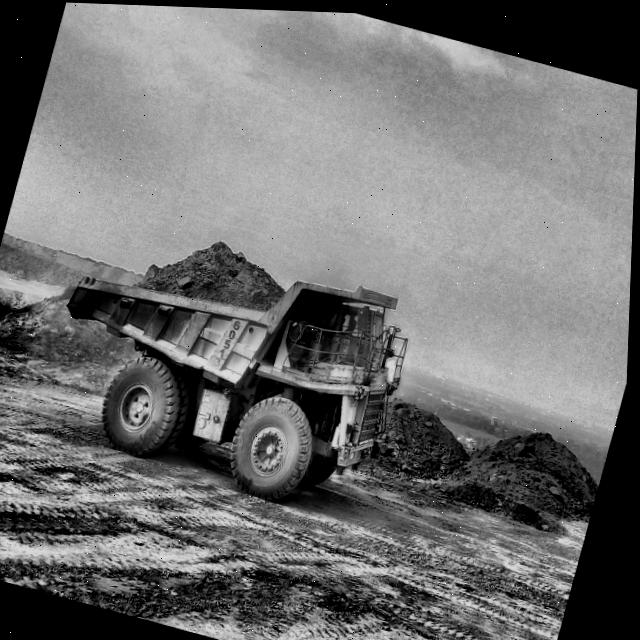dump_truck: (70, 278, 408, 499)
